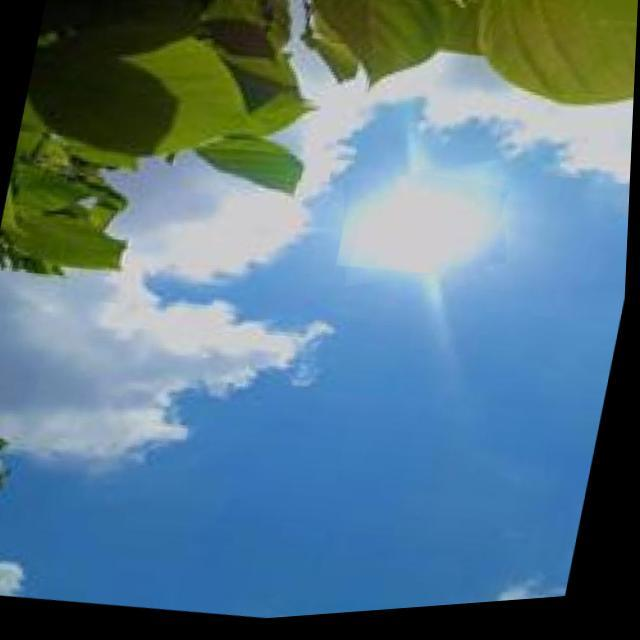sun: (342, 181, 503, 282)
